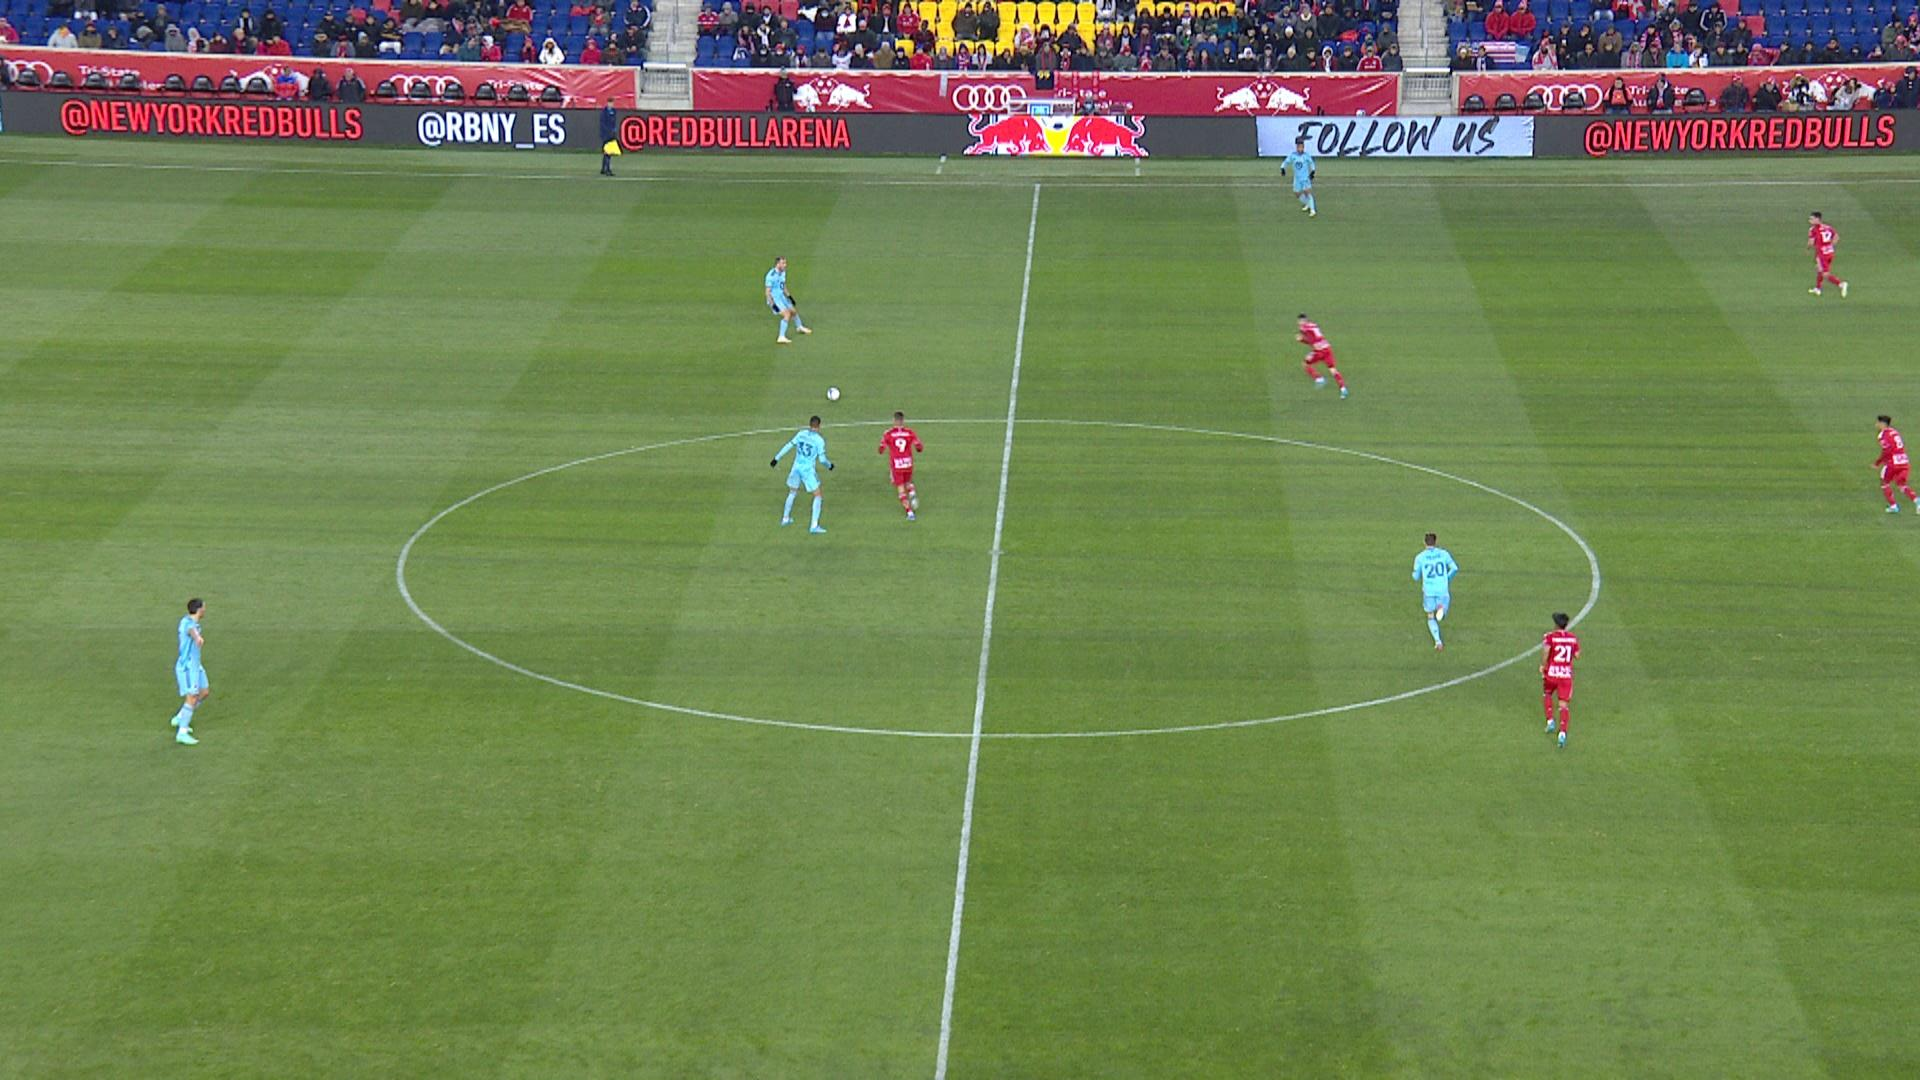football: (826, 385, 841, 403)
